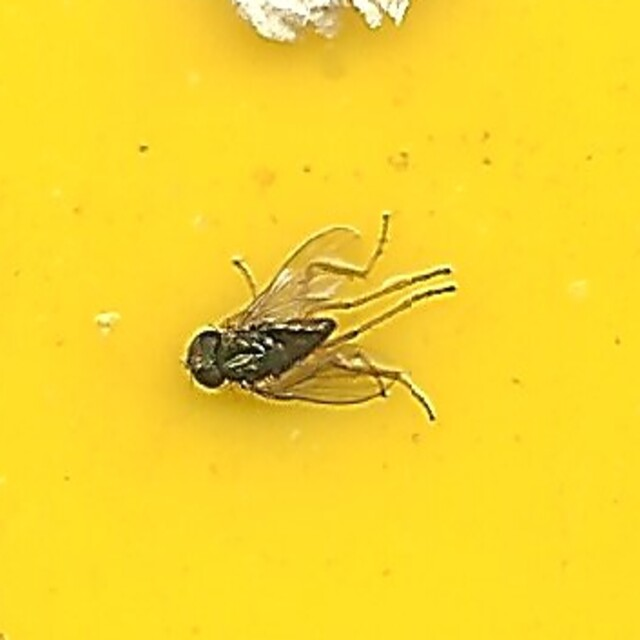Brachycera: (181, 215, 459, 425)
